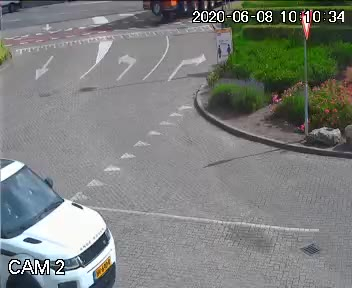car: (0, 133, 132, 288)
